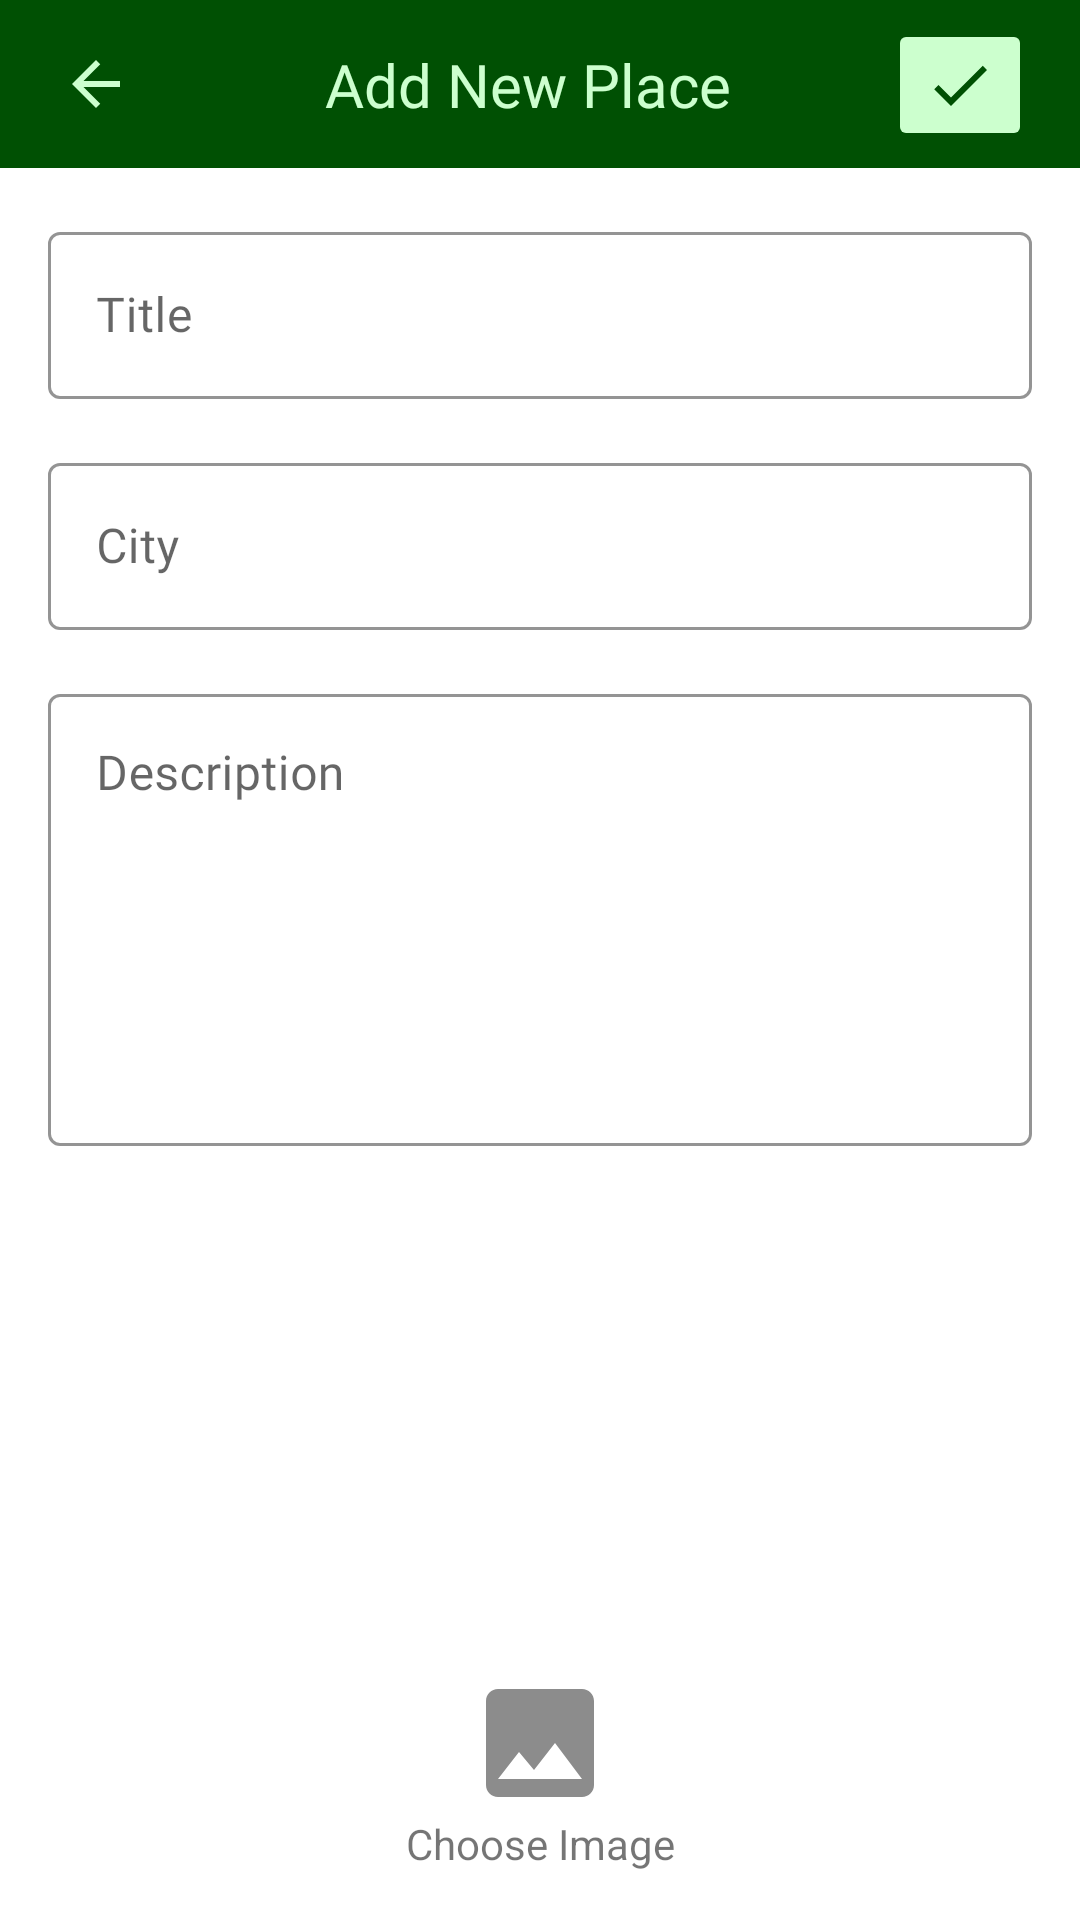

Named icons in this screenshot (1080 × 1920) and their centers, (x,y):
arrow back: (96,84)
check: (960,85)
insert photo: (540,1743)
